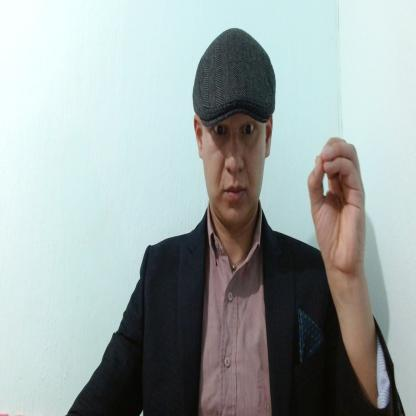O: (306, 134, 368, 273)
